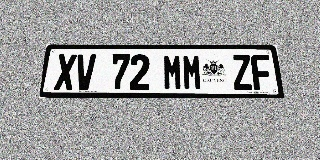2: (130, 54, 149, 90)
7: (109, 54, 130, 90)
F: (250, 55, 273, 90)
M: (182, 54, 203, 90), (163, 54, 183, 90)
V: (74, 54, 96, 90)
X: (54, 54, 77, 90)
Z: (231, 55, 253, 90)
